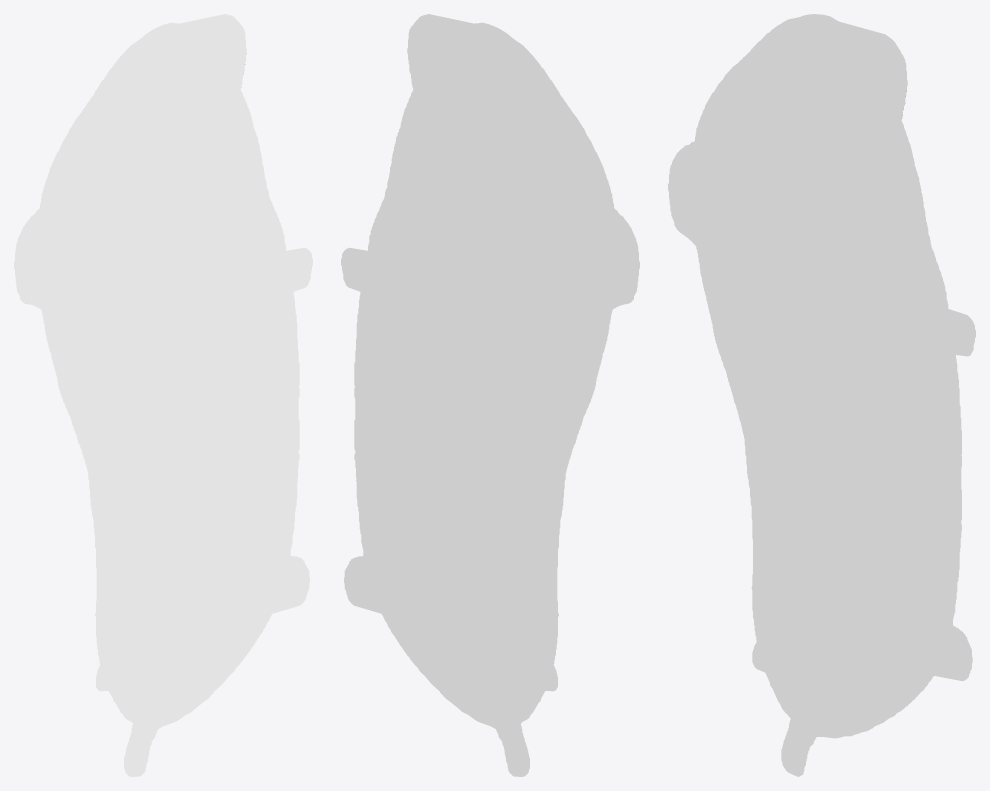
Rendered from golang-character2.glb.
3 renders of one model, left to right at view 1: azimuth 30°, elevation 25°; view 2: azimuth 150°, elevation 25°; view 3: azimuth 330°, elevation 25°, orthographic. The views are drawn at different scales.
Bounding box in the file's own units: 1 × 2.39 × 5e-05.
Materials: 2 (1 with a texture image).
